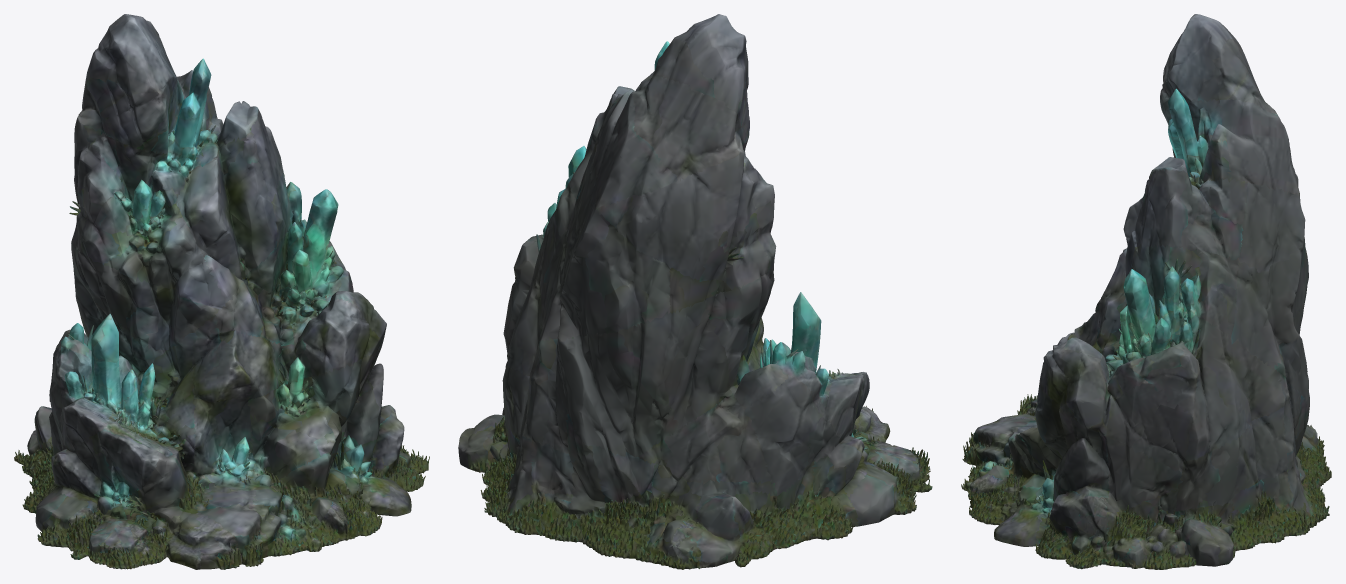
Rendered from Meshy_AI_crystal_rock_formatio_0823030640_image-to-3d-texture.glb.
3 views of the same model, side by side, from view 1: azimuth 30°, elevation 25°; view 2: azimuth 150°, elevation 25°; view 3: azimuth 270°, elevation 25° (orthographic). The views are drawn at different scales.
Visible parts, largest first — view 1: mesh_node; view 2: mesh_node; view 3: mesh_node.
Boxes of the visible parts, left/top/right/bottom form: mesh_node: left=14, top=14, right=429, bottom=569; mesh_node: left=458, top=14, right=932, bottom=569; mesh_node: left=961, top=14, right=1331, bottom=569.
Size of the model in its own units: 1.62 by 1.9 by 1.44.
1 material, 1 textured.
